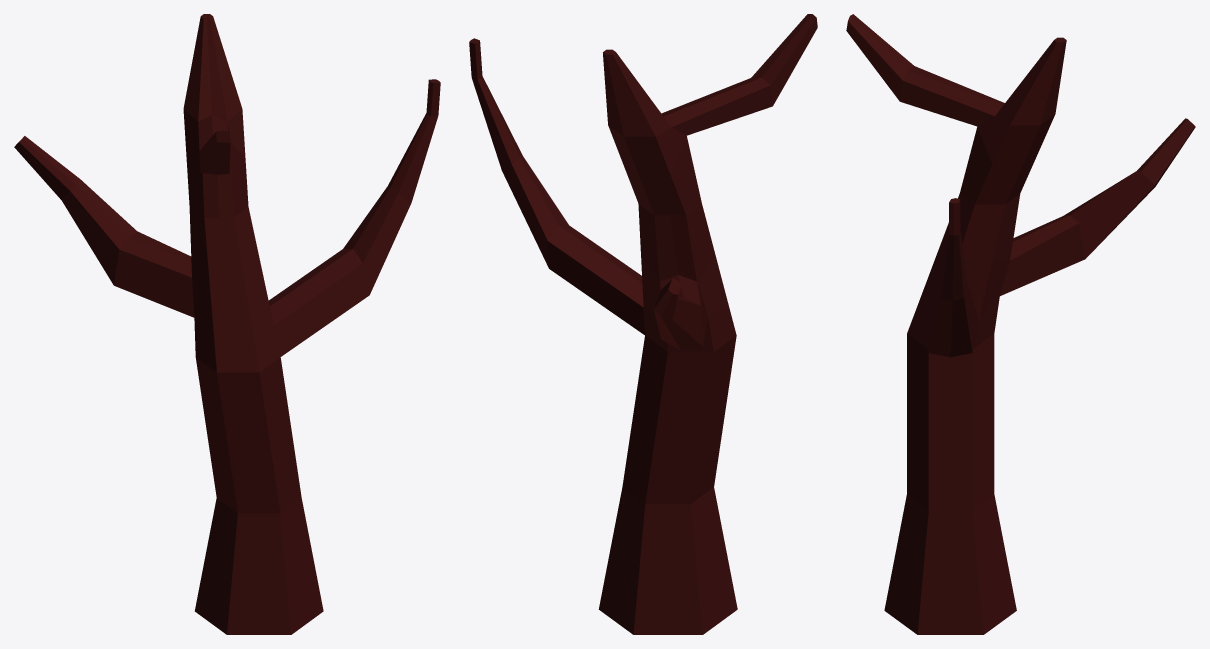
The model's file is Dead Apple Tree.fbx.
The picture shows the model from 3 angles, left to right: view 1: azimuth 30°, elevation 25°; view 2: azimuth 150°, elevation 25°; view 3: azimuth 270°, elevation 25°; orthographic projection. The views are drawn at different scales.
Parts seen in each view (by area): view 1: Cylinder; view 2: Cylinder; view 3: Cylinder.
Boxes of the visible parts, x1=… form: Cylinder: x1=14, y1=14, x2=440, y2=634; Cylinder: x1=469, y1=14, x2=817, y2=634; Cylinder: x1=846, y1=14, x2=1195, y2=634.
Bounding box in the file's own units: 396 × 680 × 377.
